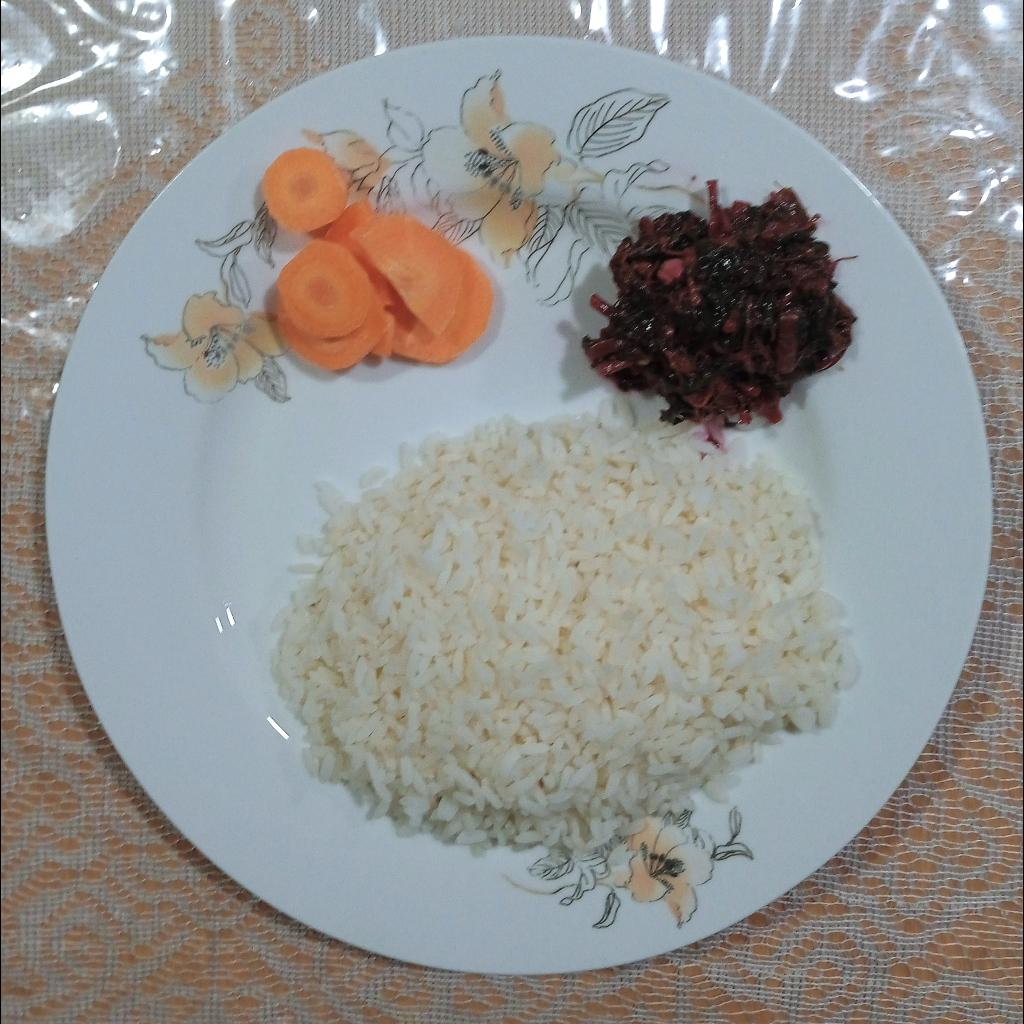carrot: (263, 149, 494, 368)
lal-shak: (581, 180, 858, 425)
rice: (267, 402, 856, 868)
